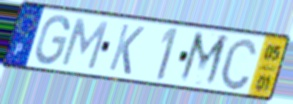1: (155, 25, 180, 83)
C: (218, 36, 259, 92)
G: (34, 13, 72, 67)
K: (106, 22, 146, 77)
M: (175, 30, 231, 90), (59, 16, 111, 72)
